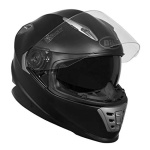Helmet: (8, 7, 141, 143)
